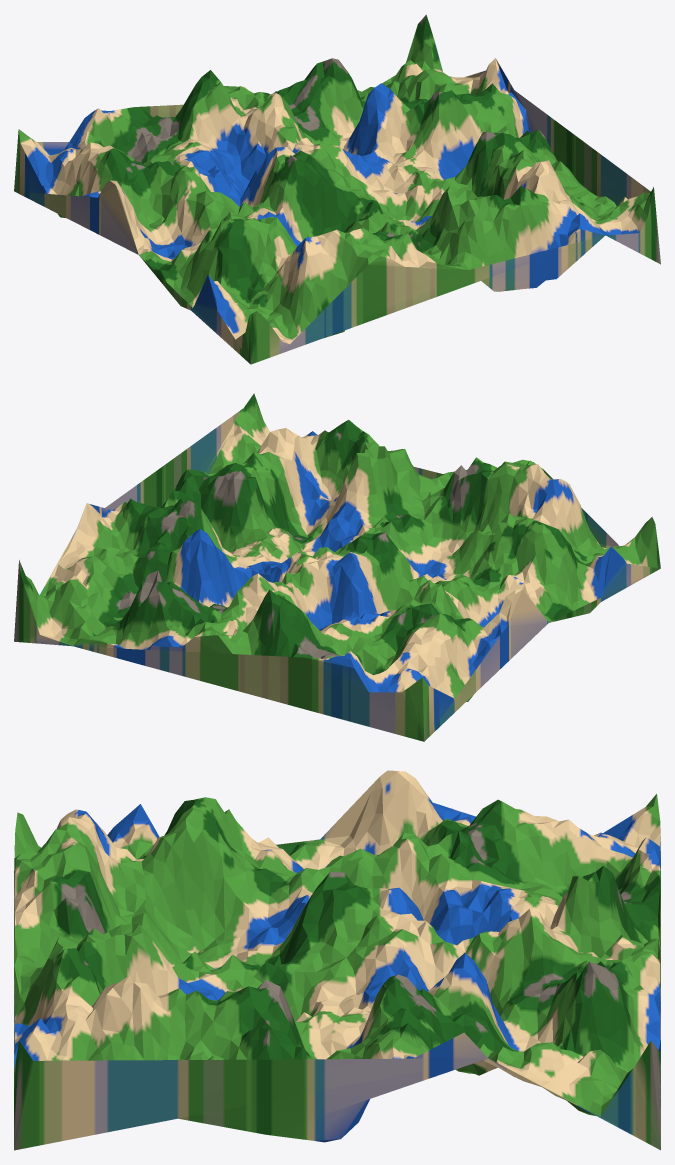
File: flat.obj
3 renders of one model, top to bottom at view 1: azimuth 30°, elevation 25°; view 2: azimuth 150°, elevation 25°; view 3: azimuth 270°, elevation 25°, orthographic. The views are drawn at different scales.
Bounding box in the file's own units: 256 × 56.13 × 256.
Materials: 1 (1 with a texture image).
